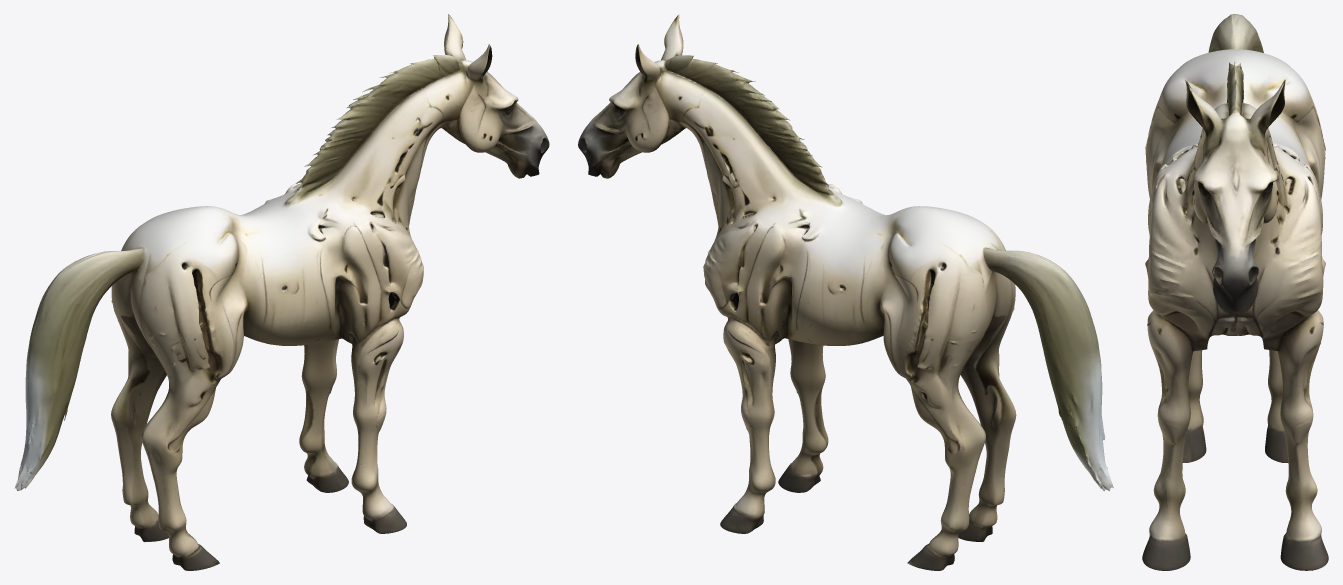
File: mecha-steed.glb
The picture shows the model from 3 angles, left to right: view 1: azimuth 30°, elevation 25°; view 2: azimuth 150°, elevation 25°; view 3: azimuth 270°, elevation 25°; orthographic projection. The views are drawn at different scales.
Visible parts, largest first — view 1: root; view 2: root; view 3: root.
Boxes of the visible parts, x1=… form: root: x1=14, y1=14, x2=549, y2=570; root: x1=578, y1=14, x2=1113, y2=570; root: x1=1142, y1=14, x2=1328, y2=570.
Bounding box in the file's own units: 9 × 7.28 × 2.24.
1 material, 1 textured.
